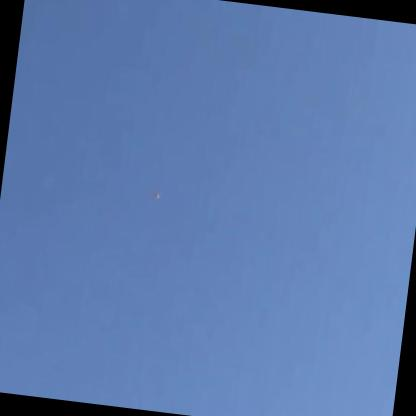plane: (149, 190, 162, 202)
